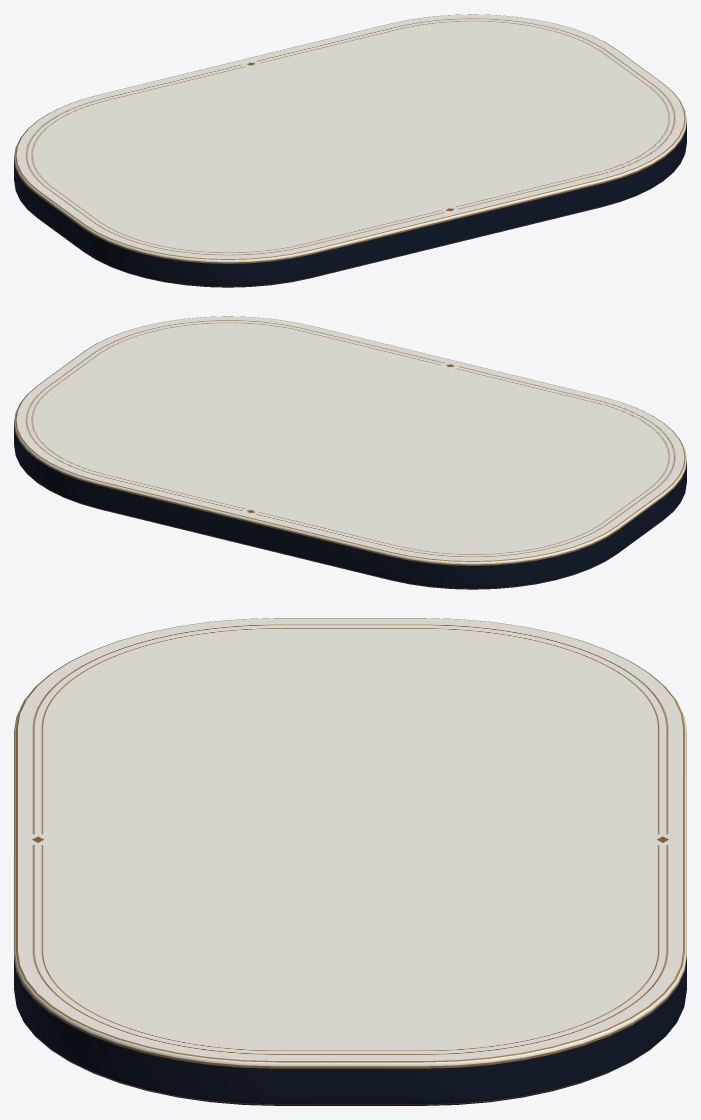
The model's file is table-low.glb.
3 renders of one model, top to bottom at view 1: azimuth 30°, elevation 25°; view 2: azimuth 150°, elevation 25°; view 3: azimuth 270°, elevation 25°, orthographic. The views are drawn at different scales.
Parts seen in each view (by area): view 1: LORE_Ivory_Table.001; view 2: LORE_Ivory_Table.001; view 3: LORE_Ivory_Table.001.
Boxes of the visible parts, x1=… form: LORE_Ivory_Table.001: x1=14, y1=14, x2=686, y2=287; LORE_Ivory_Table.001: x1=14, y1=316, x2=686, y2=589; LORE_Ivory_Table.001: x1=14, y1=618, x2=686, y2=1105.
Bounding box in the file's own units: 1.6 × 0.075 × 1.02.
3 materials, 1 textured.
